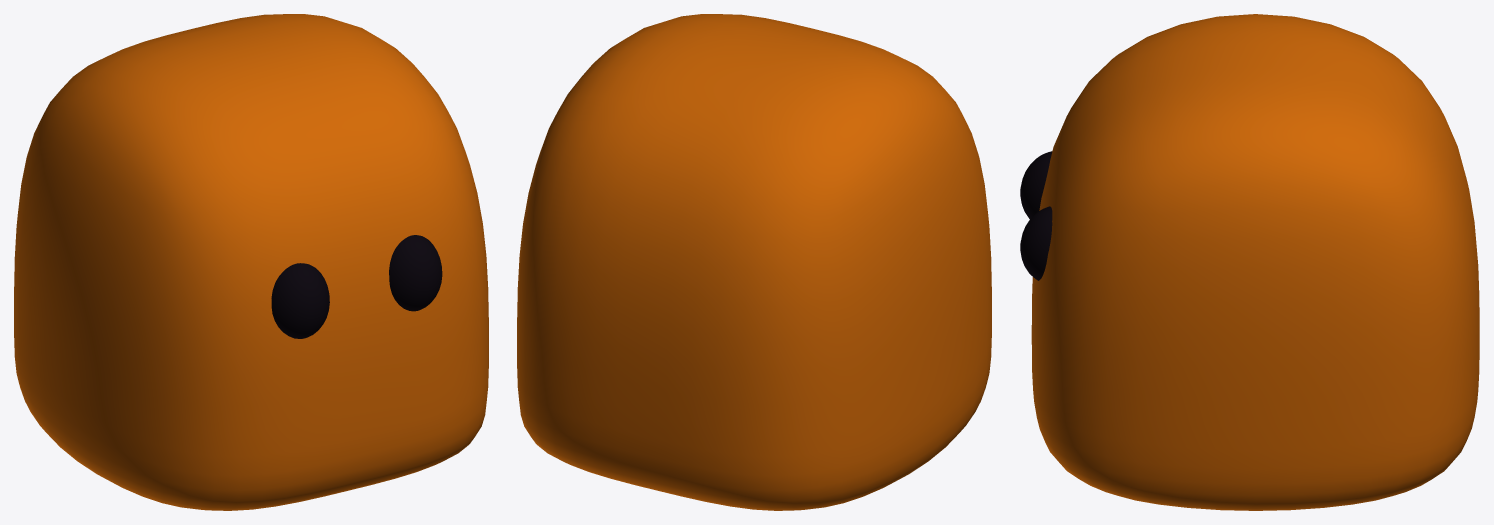
Rendered from Emoji 041 face without mouth.fbx.
3 views of the same model, side by side, from view 1: azimuth 30°, elevation 25°; view 2: azimuth 150°, elevation 25°; view 3: azimuth 270°, elevation 25° (orthographic).
Parts seen in each view (by area): view 1: Emoji 041 face without mouth, Eyes.056; view 2: Emoji 041 face without mouth; view 3: Emoji 041 face without mouth, Eyes.056.
Part boxes in pixels (x1,y1,x2,y2): Emoji 041 face without mouth: [14, 14, 488, 510]; Eyes.056: [271, 235, 442, 338]; Emoji 041 face without mouth: [517, 14, 991, 510]; Emoji 041 face without mouth: [1031, 14, 1479, 510]; Eyes.056: [1020, 151, 1052, 280].
Size of the model in its own units: 95.83 by 103 by 95.83.
